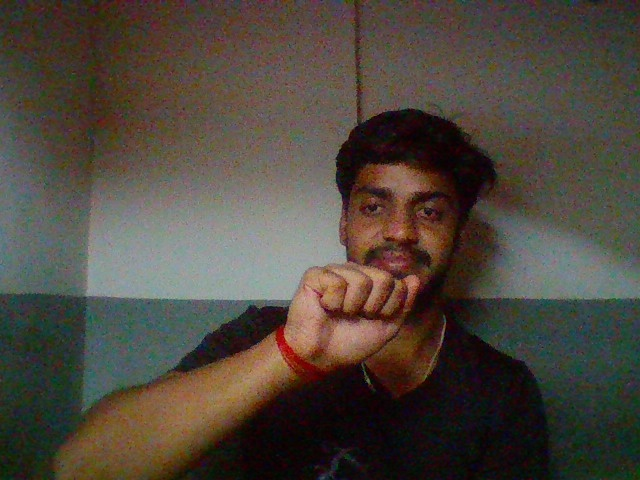Bye: (273, 257, 445, 368)
